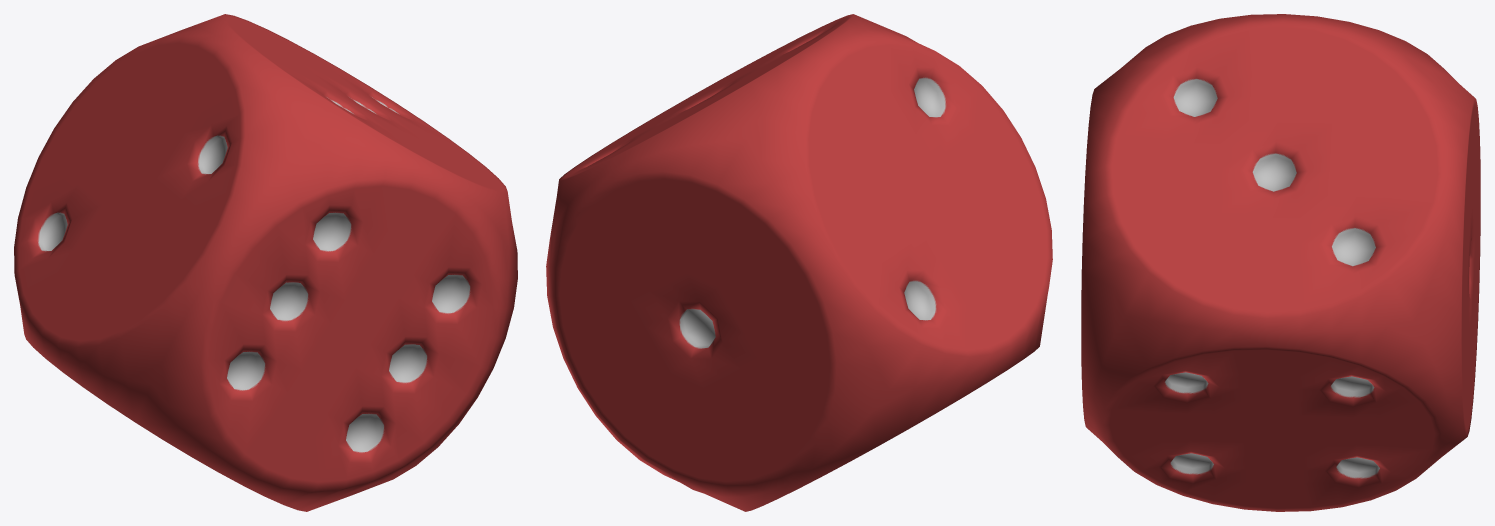
The model's file is diceCollada.dae.
The picture shows the model from 3 angles, left to right: view 1: azimuth 30°, elevation 25°; view 2: azimuth 150°, elevation 25°; view 3: azimuth 270°, elevation 25°; orthographic projection.
Parts seen in each view (by area): view 1: Dice; view 2: Dice; view 3: Dice.
Boxes of the visible parts, <box> form: Dice: <box>14,14,517,511</box>; Dice: <box>546,14,1052,511</box>; Dice: <box>1081,14,1480,511</box>.
Size of the model in its own units: 0.0133 by 0.0133 by 0.0105.
Materials: 1 (1 with a texture image).
